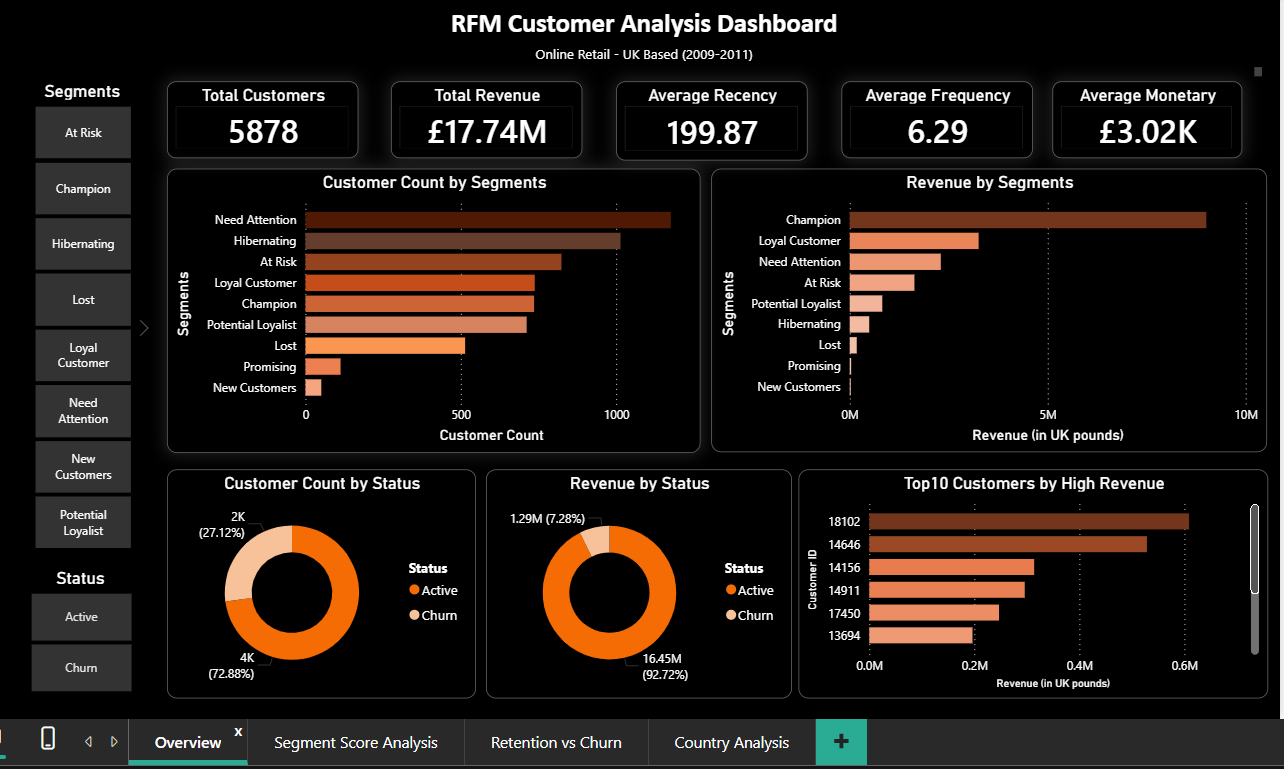

What the dashboard file says about the page in this screenshot:
{"tool":"powerbi","page":{"name":"Overview","canvas":[1280,720],"ordinal":0},"visuals":[{"type":"cardVisual","title":"Total Customers","fields":{"Data":["Measures_.Total_Customers"]},"box":[167.8,83.2,191.2,76.7],"z":0},{"type":"barChart","title":"Customer Count by Segments","fields":{"Category":["Segment Analysis.Segments"],"Y":["Sum(Segment Analysis.Customer Count)"]},"box":[168.1,171,533.3,284.1],"z":1000},{"type":"barChart","title":"Revenue by Segments","fields":{"Category":["Segment Analysis.Segments"],"Y":["Measures_.Total Revenue"]},"box":[711.5,170.4,555.4,283.6],"z":2000},{"type":"donutChart","title":"Customer Count by Status","fields":{"Category":["Churn vs Active.Status"],"Y":["Sum(Churn vs Active.Customer Count)"]},"box":[168.1,471,308.7,229],"z":3000},{"type":"barChart","title":"Top10 Customers by High Revenue","fields":{"Category":["Top10 Customers by Revenue.Customer ID"],"Y":["Sum(Top10 Customers by Revenue.Revenue)"]},"box":[798.6,471,469.6,229],"z":4000},{"type":"cardVisual","title":"Total Revenue","fields":{"Data":["Measures_.Total Revenue"]},"box":[391.5,83.2,191.2,76.7],"z":5000},{"type":"cardVisual","title":"Average Recency","fields":{"Data":["Measures_.AVG Recency"]},"box":[616.6,83.2,191.2,79.3],"z":6000},{"type":"cardVisual","title":"Average Frequency","fields":{"Data":["Measures_.AVG Frequency"]},"box":[842,82.6,191.3,76.8],"z":7000},{"type":"cardVisual","title":"Average Monetary","fields":{"Data":["Measures_.AVG Monetary"]},"box":[1052.3,83.2,189.9,76.7],"z":8000},{"type":"donutChart","title":"Revenue by Status","fields":{"Category":["Churn vs Active.Status"],"Y":["Sum(Churn vs Active.Revenue)"]},"box":[487,471,305.8,229],"z":9000},{"type":"slicer","title":"Segments","fields":{"Values":["Segment Analysis.Segments"]},"box":[10.4,83.2,145.7,473.5],"z":10000},{"type":"slicer","title":"Status","fields":{"Values":["Churn vs Active.Status"]},"box":[6.5,569.7,149.6,130.1],"z":11000},{"type":"textbox","title":"RFM Customer Analysis Dashboard","box":[22.1,9.1,1244.8,74.1],"z":12000}]}

Visuals, with their boxes on the page's 1280x720 design canvas (x1, y1, x2, y2). These are canvas units, not pixel positions in the 1284x769 screenshot, which may show the page scaled, cropped or inside an application window:
"Total Customers" cardVisual: 168 83 359 160
"Customer Count by Segments" barChart: 168 171 701 455
"Revenue by Segments" barChart: 712 170 1267 454
"Customer Count by Status" donutChart: 168 471 477 700
"Top10 Customers by High Revenue" barChart: 799 471 1268 700
"Total Revenue" cardVisual: 392 83 583 160
"Average Recency" cardVisual: 617 83 808 162
"Average Frequency" cardVisual: 842 83 1033 159
"Average Monetary" cardVisual: 1052 83 1242 160
"Revenue by Status" donutChart: 487 471 793 700
"Segments" slicer: 10 83 156 557
"Status" slicer: 6 570 156 700
"RFM Customer Analysis Dashboard" textbox: 22 9 1267 83
